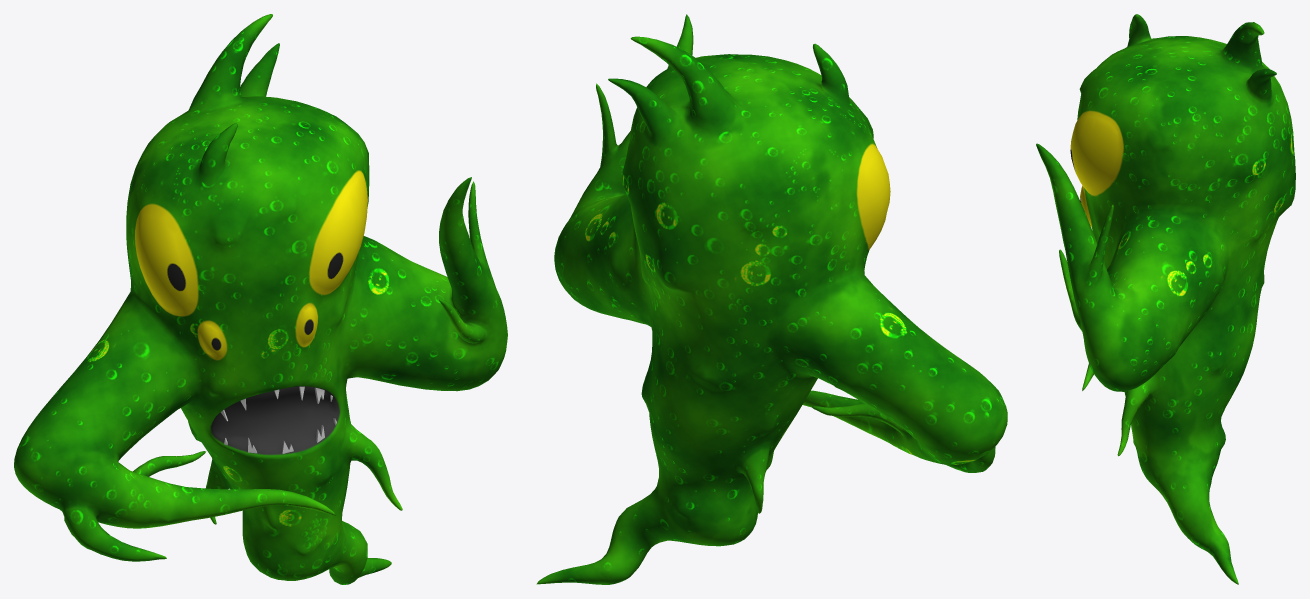
File: monstruo.glb
The picture shows the model from 3 angles, left to right: view 1: azimuth 30°, elevation 25°; view 2: azimuth 150°, elevation 25°; view 3: azimuth 270°, elevation 25°; orthographic projection. The views are drawn at different scales.
Parts seen in each view (by area): view 1: node_id30; view 2: node_id30; view 3: node_id30.
Part boxes in pixels (x1,y1,x2,y2): node_id30: (14,14,507,584); node_id30: (536,14,1007,584); node_id30: (1036,14,1295,584).
Size of the model in its own units: 0.4303 by 0.512 by 0.2379.
1 material, 1 textured.
